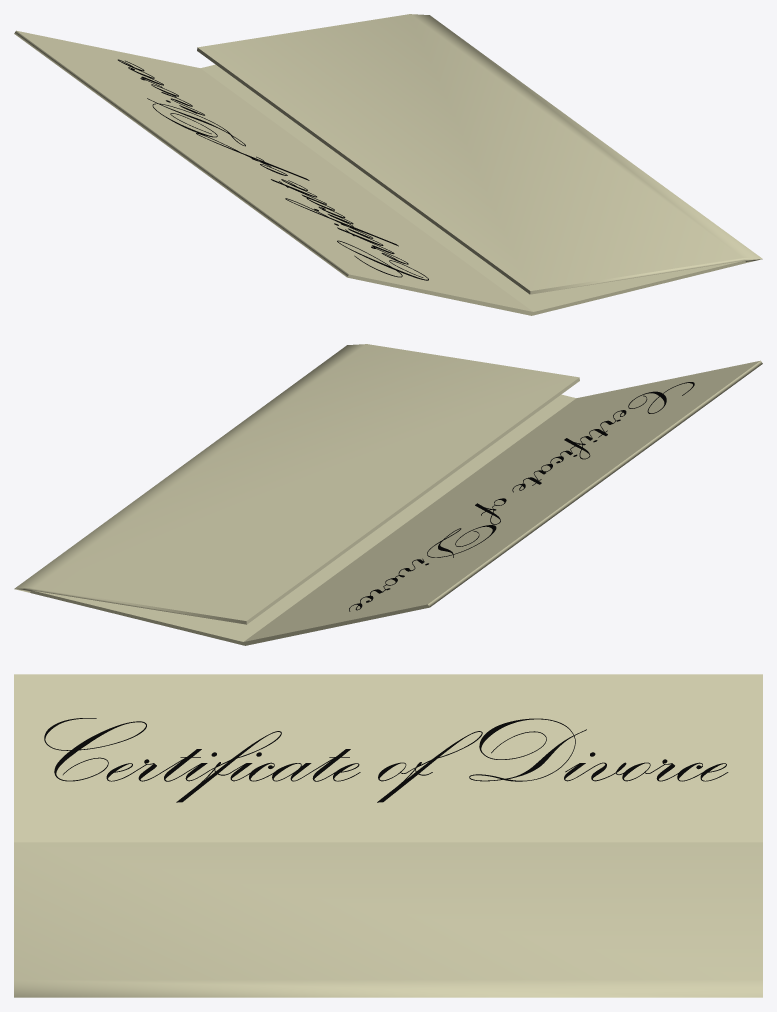
The model's file is divorce2 1.fbx.
The picture shows the model from 3 angles, top to bottom: view 1: azimuth 30°, elevation 25°; view 2: azimuth 150°, elevation 25°; view 3: azimuth 270°, elevation 25°; orthographic projection. The views are drawn at different scales.
Visible parts, largest first — view 1: Cube.001, Certific; view 2: Cube.001, Certific; view 3: Cube.001, Certific.
Boxes of the visible parts, x1,y1,x2,y2 form: Cube.001: (14, 14, 762, 315); Certific: (118, 59, 428, 280); Cube.001: (14, 344, 762, 645); Certific: (349, 382, 694, 611); Cube.001: (14, 674, 762, 997); Certific: (44, 718, 728, 802).
Size of the model in its own units: 104 by 20.51 by 144.
